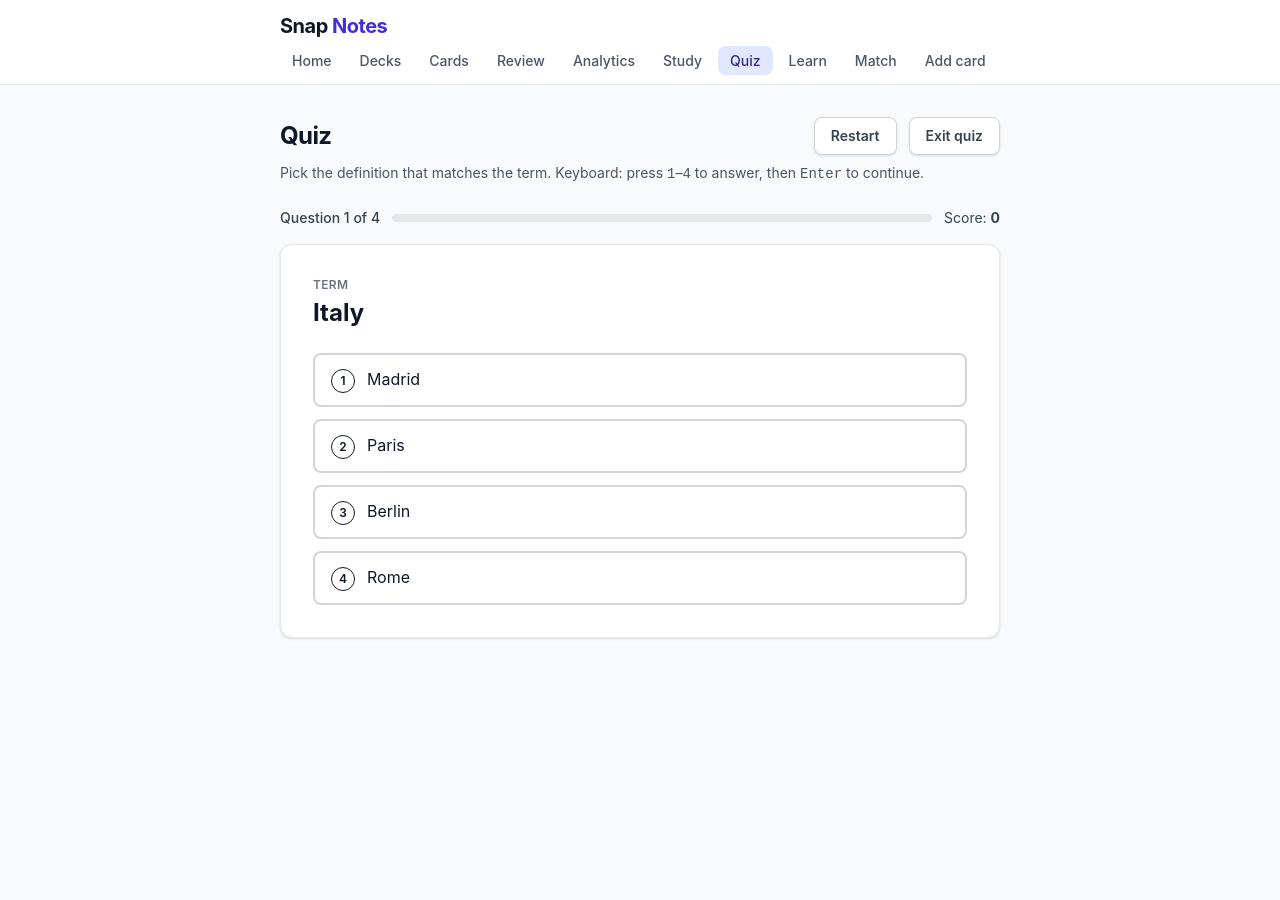
it: QuizPage › shows feedback for a correct answer and waits before moving on
The width and height of the screenshot is (1280, 900).
Click the button "4 Rome": (388, 577) [313,551,967,605]
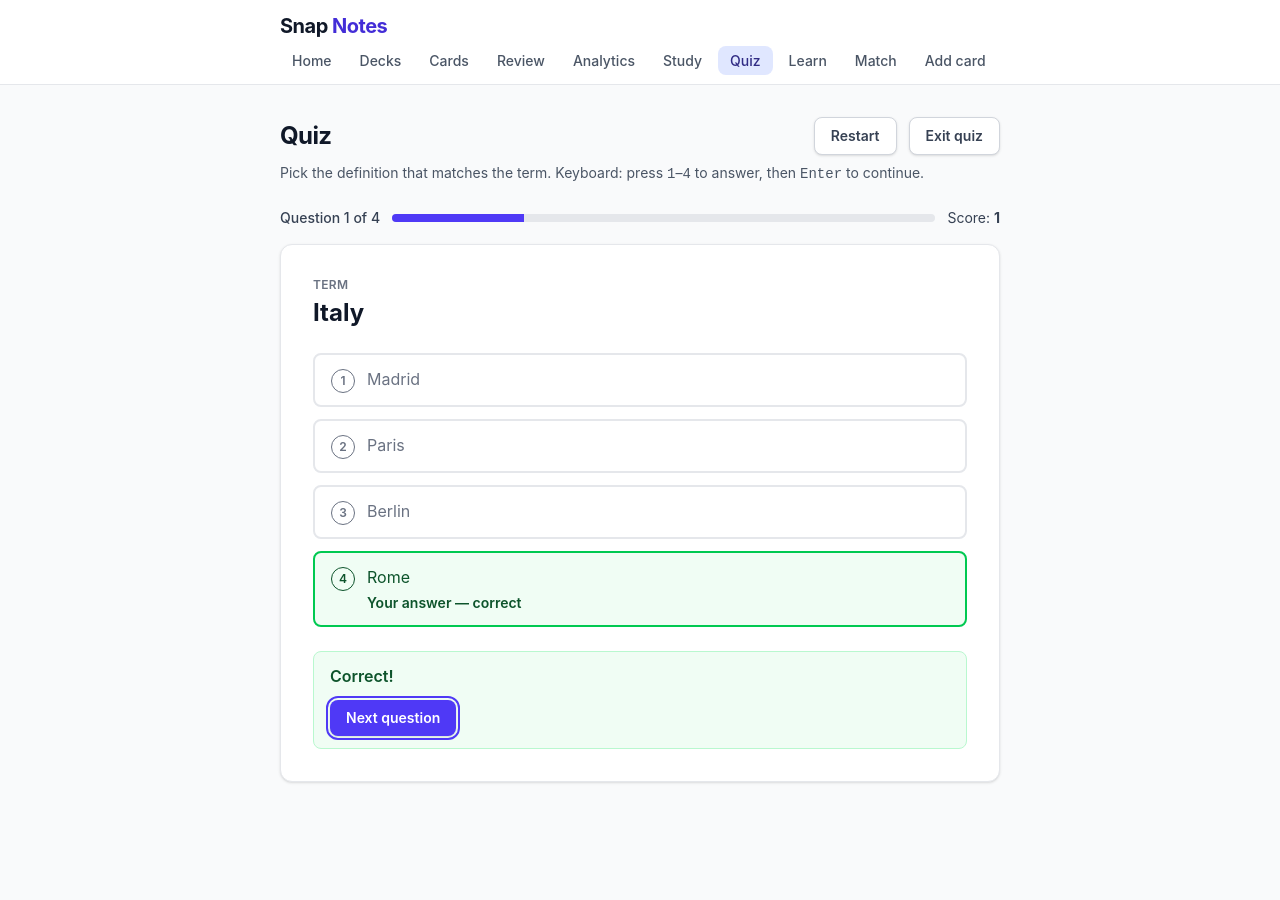
Expected: the text "Correct!" is shown, [330,666,394,686]
Expected: the text "Score: 1" is shown, [947,208,1000,228]
Expected: the button "4 Rome Your answer — correct" is shown, [313,551,967,627]
